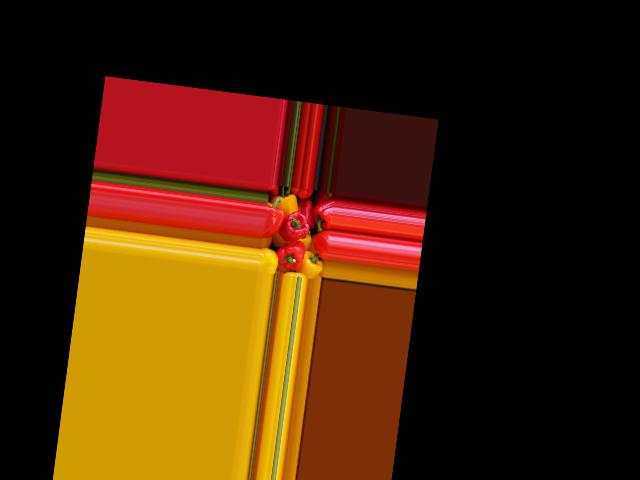bell_pepper: (297, 252, 322, 279)
